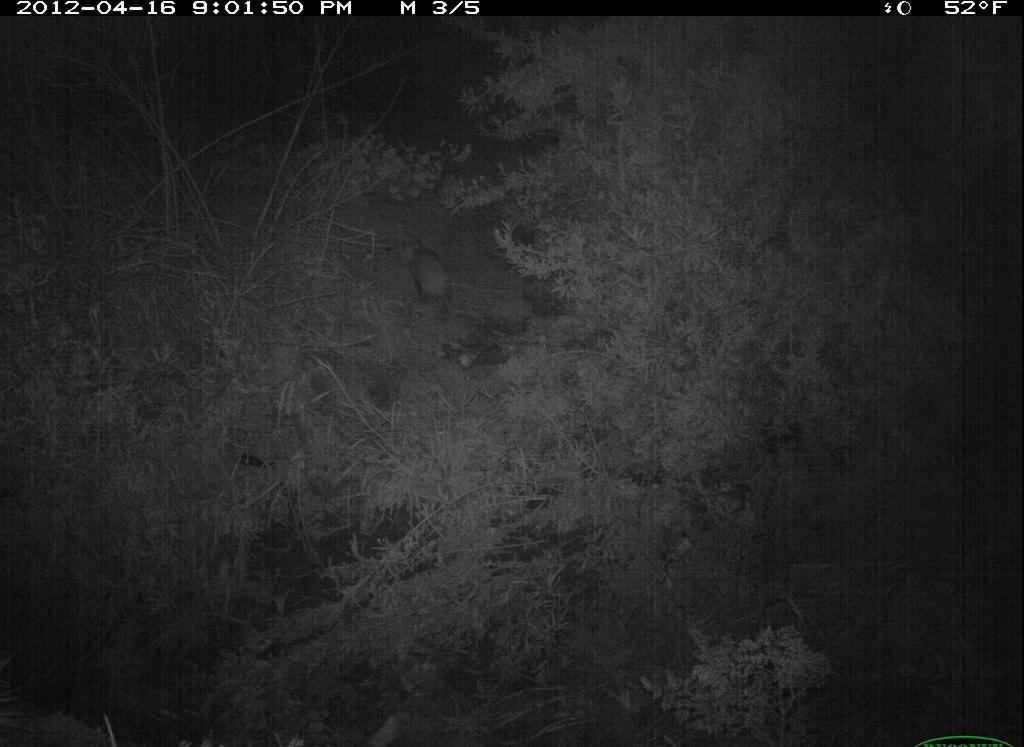opossum: (395, 230, 466, 335)
